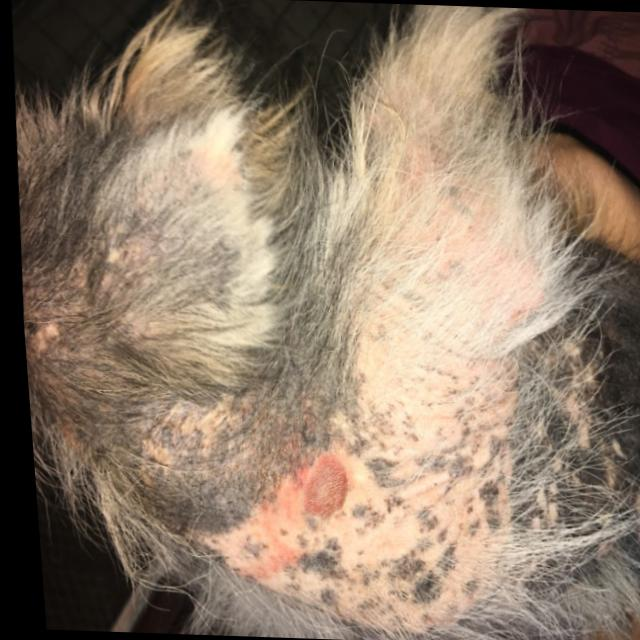ringworm: (279, 440, 357, 526)
